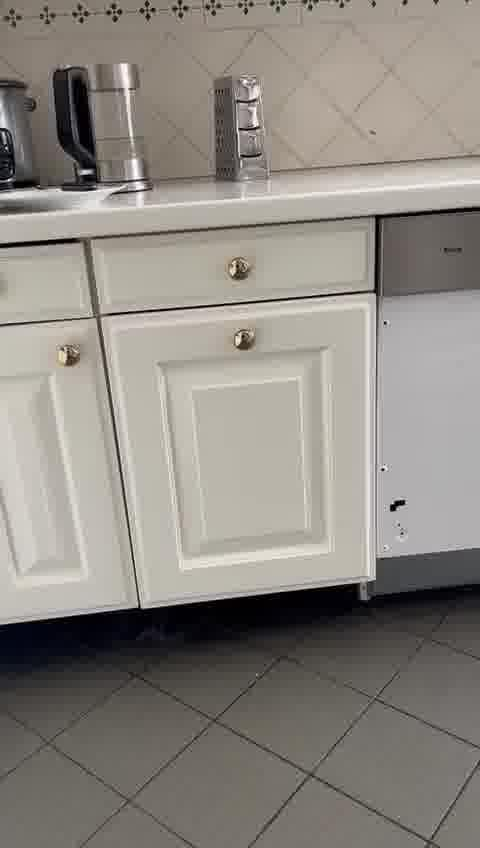cabinet_door: (128, 308, 381, 596), (0, 315, 120, 621), (94, 222, 378, 302)
handle: (226, 320, 264, 360), (51, 341, 86, 373), (223, 255, 255, 284)
